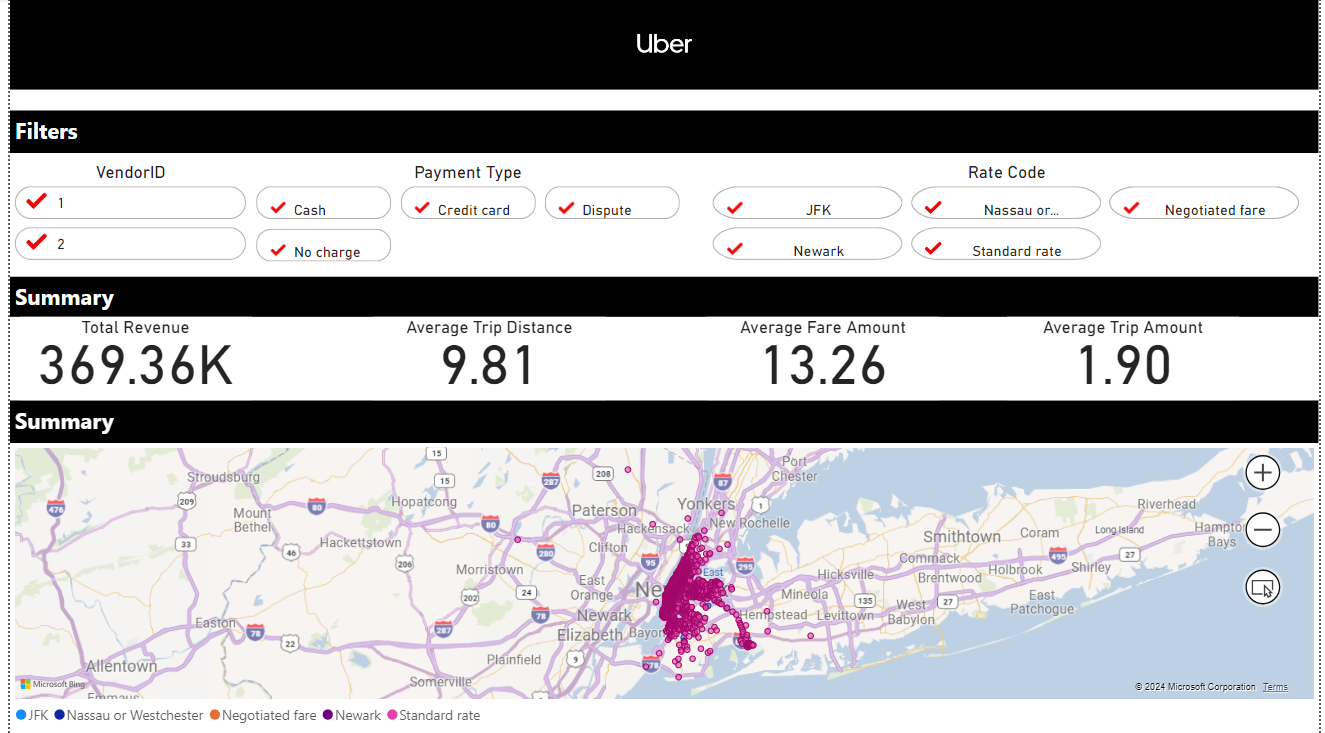

The dashboard page shown, as its layout file describes it:
{"tool":"powerbi","page":{"name":"Page 1","canvas":[1280,720],"ordinal":0},"visuals":[{"type":"image","box":[0,0,1280.3,126.2],"z":0}]}

Visuals, with their boxes in screenshot pixels (x1, y1, x2, y2), scaled from the page's 1280x720 canvas onto the 1325x733 screenshot:
image: pyautogui.locateOnScreen(0, 0, 1324, 128)
